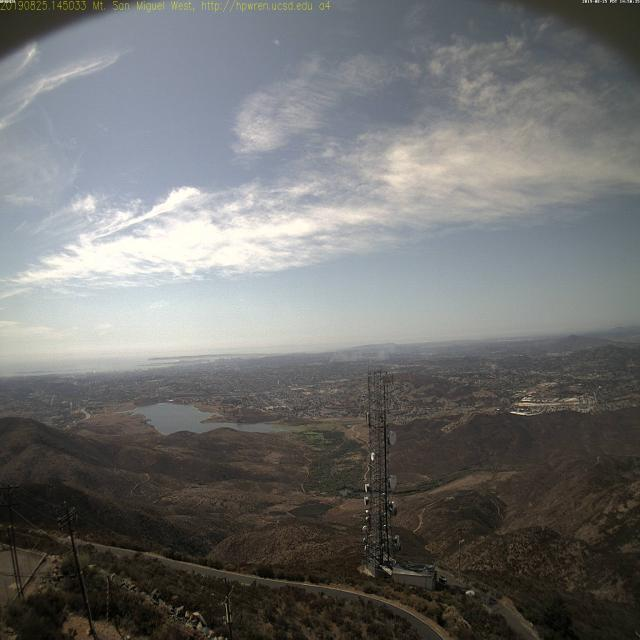smoke: (327, 348, 343, 367)
